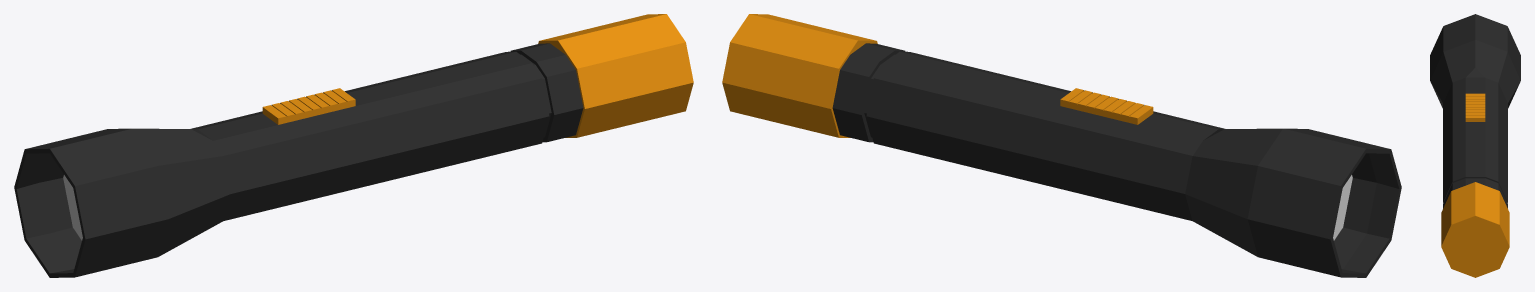
The model's file is Flashlight.fbx.
The picture shows the model from 3 angles, left to right: view 1: azimuth 30°, elevation 25°; view 2: azimuth 150°, elevation 25°; view 3: azimuth 270°, elevation 25°; orthographic projection. The views are drawn at different scales.
Visible parts, largest first — view 1: Flashlight; view 2: Flashlight; view 3: Flashlight.
Boxes of the visible parts, x1=… form: Flashlight: x1=14, y1=14, x2=693, y2=277; Flashlight: x1=722, y1=14, x2=1401, y2=277; Flashlight: x1=1430, y1=14, x2=1520, y2=277.
Size of the model in its own units: 39.27 by 7.86 by 7.86.
